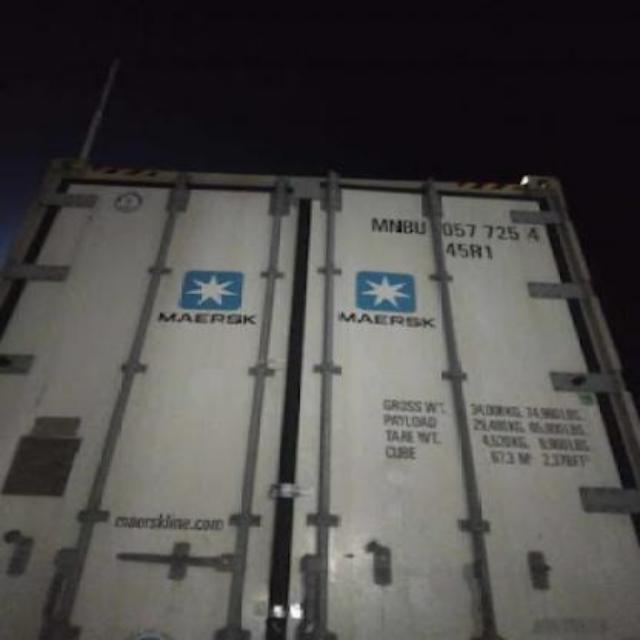0: (441, 222, 454, 238)
2: (496, 225, 508, 241)
4: (526, 225, 540, 241)
5: (504, 228, 522, 242), (454, 222, 466, 238)
7: (482, 224, 496, 242), (466, 222, 476, 238)
B: (401, 219, 414, 235)
M: (368, 218, 389, 234)
N: (390, 218, 402, 232)
U: (416, 220, 426, 236)
